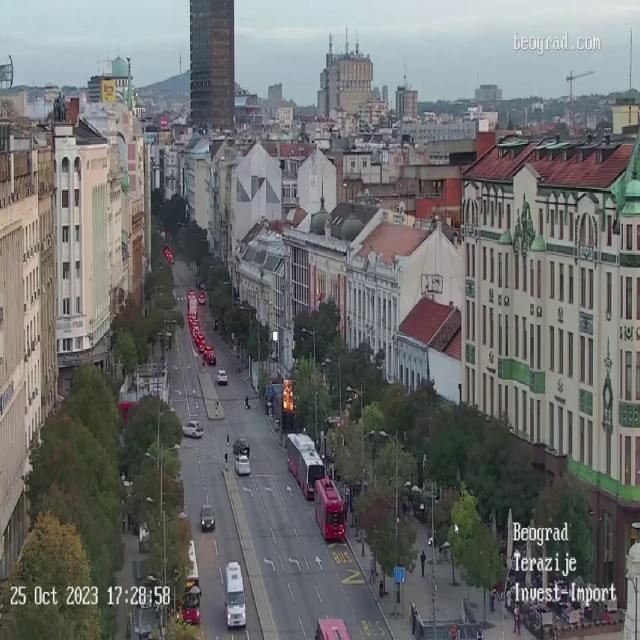bus: (178, 534, 202, 627), (314, 475, 346, 541), (285, 432, 320, 492)
car: (227, 561, 246, 628), (314, 616, 352, 640), (200, 504, 215, 532), (180, 422, 201, 438), (234, 435, 250, 456), (238, 454, 250, 476), (204, 350, 216, 364), (217, 368, 227, 384)
